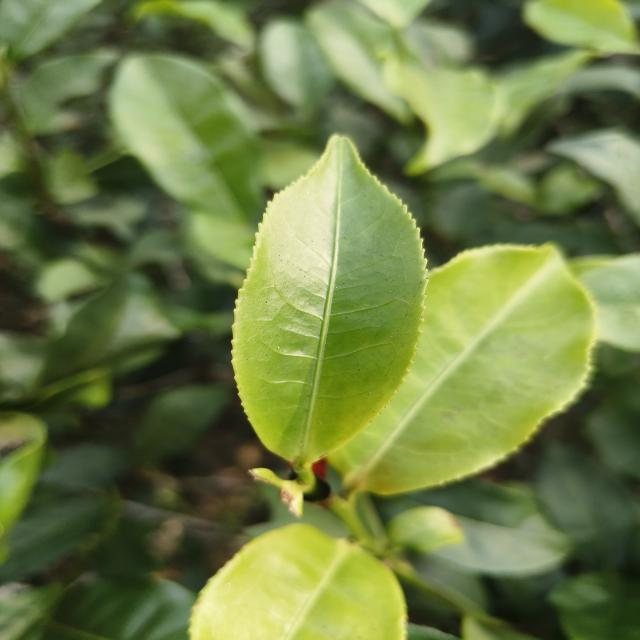Leaf: (330, 244, 595, 494), (232, 136, 426, 477), (109, 54, 261, 233), (189, 524, 406, 640), (379, 479, 571, 576), (383, 61, 498, 175), (535, 441, 635, 569), (44, 576, 195, 640), (41, 276, 128, 384), (0, 498, 108, 581), (547, 129, 640, 222), (19, 50, 116, 133), (134, 384, 229, 464), (259, 19, 331, 108), (523, 0, 640, 54), (387, 506, 463, 553)
